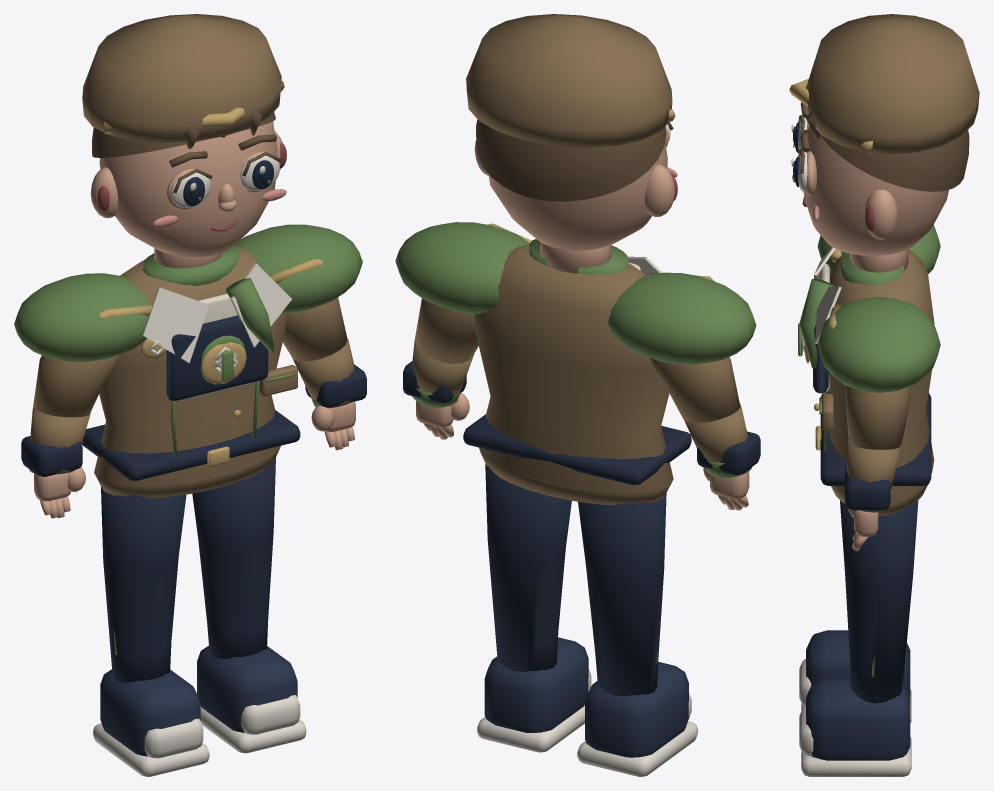
The model's file is npc_farmtown_lieutenant_2.glb.
3 renders of one model, left to right at view 1: azimuth 30°, elevation 25°; view 2: azimuth 150°, elevation 25°; view 3: azimuth 270°, elevation 25°, orthographic. The views are drawn at different scales.
Parts seen in each view (by area): view 1: figure.039; view 2: figure.039; view 3: figure.039.
Part boxes in pixels (x1=…): figure.039: x1=14, y1=14, x2=366, y2=776; figure.039: x1=395, y1=14, x2=760, y2=776; figure.039: x1=789, y1=14, x2=979, y2=776.
Size of the model in its own units: 0.8572 by 1.72 by 0.4171.
